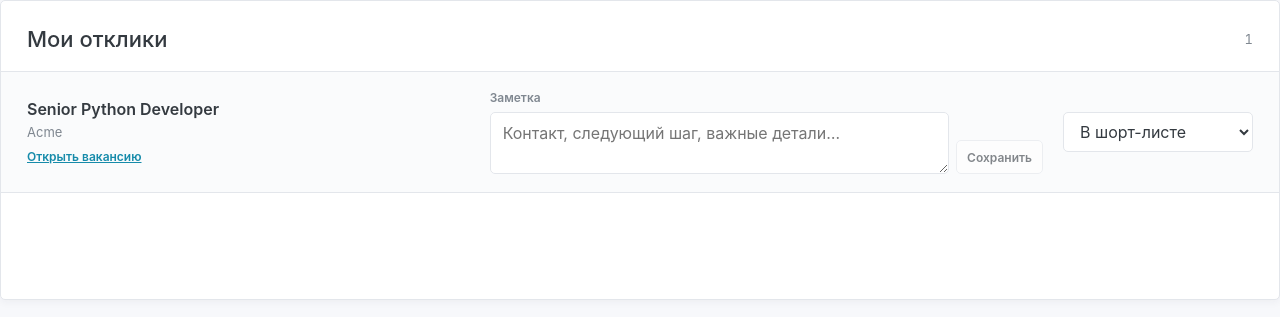
Test: ApplicationsView › saves an application note
The width and height of the screenshot is (1280, 317).
Type "Написать рекрутеру" into the text box labelled "Заметка" at (719, 143), box [490,112,949,174]
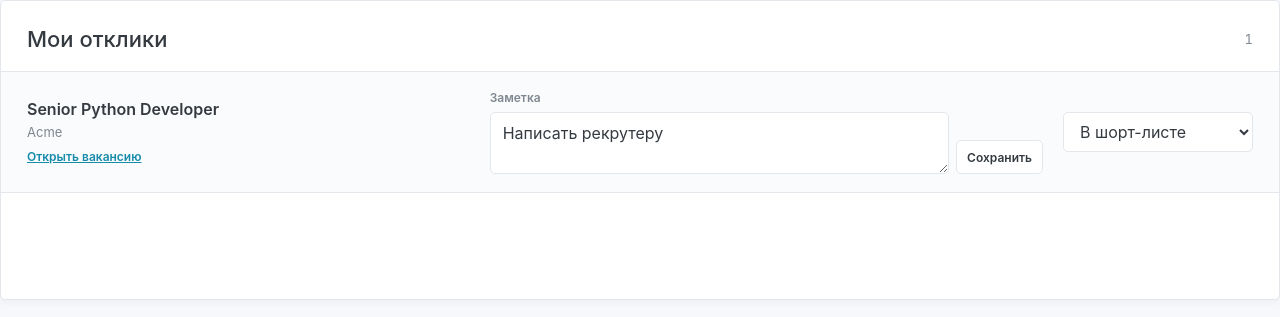
Click the button with class "card-button" at (1000, 157), box [956,140,1043,174]
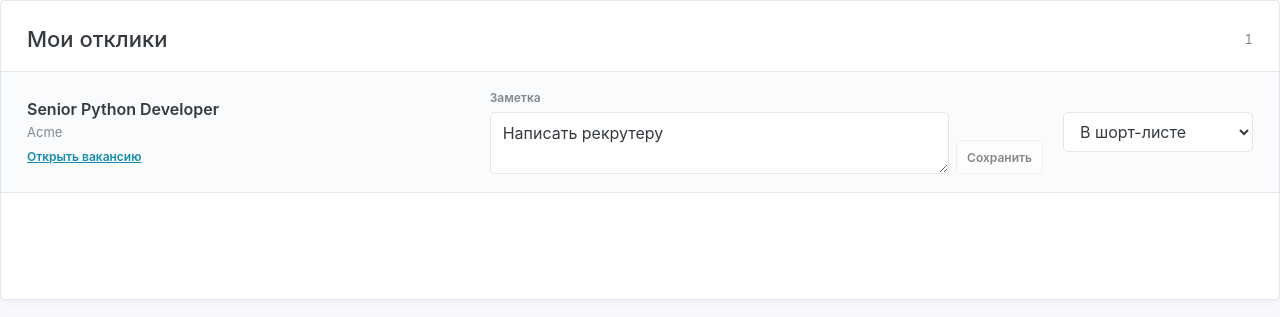
expect the button with class "card-button" is disabled: met, box [956,140,1043,174]
